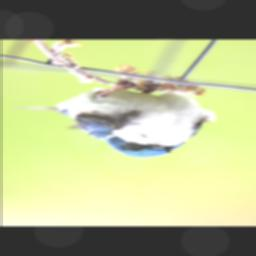Swallow: (11, 78, 218, 158)
